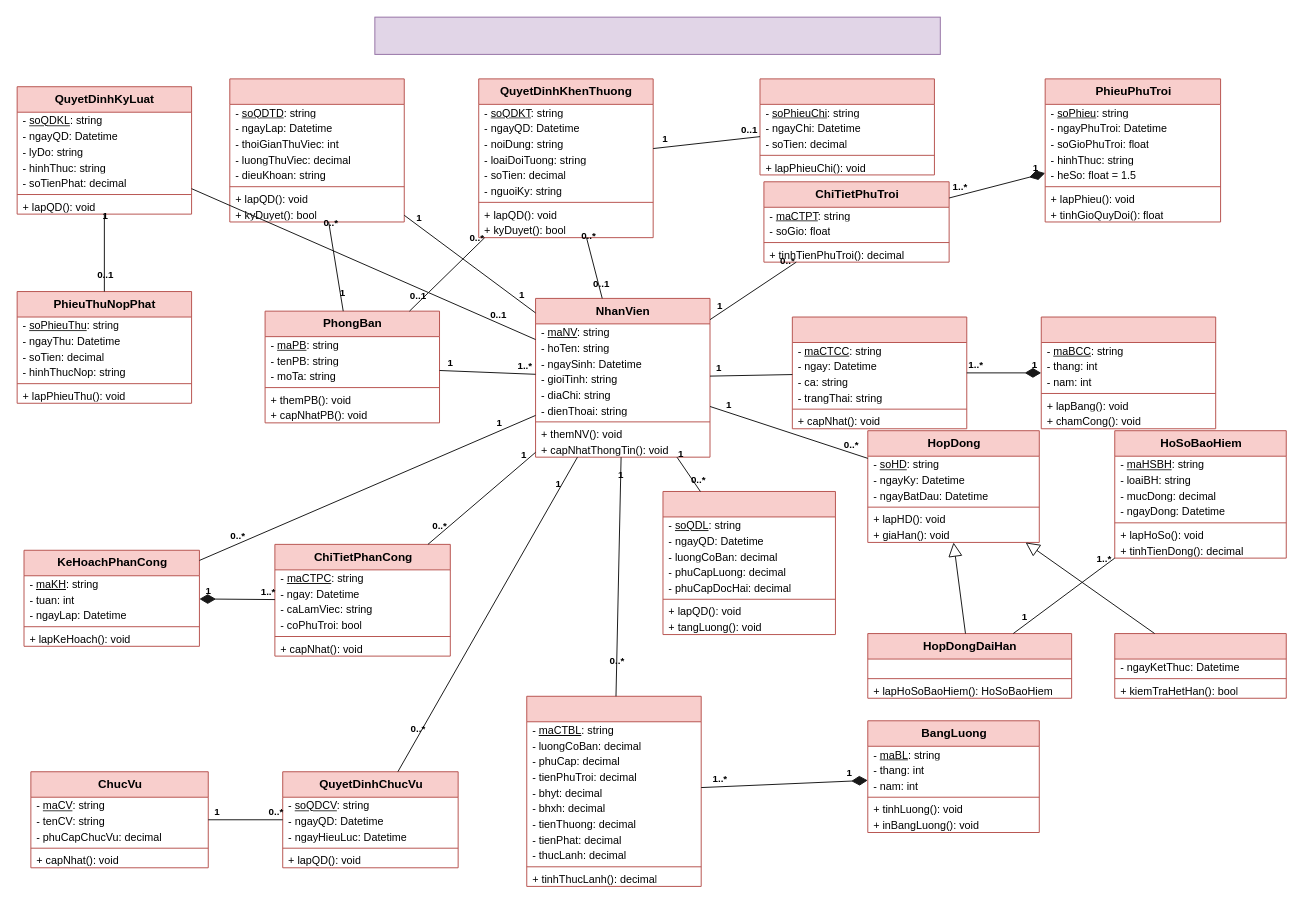
Image size: 1303x904. Some labels were removed from this diagram. Each missing label, with the box of its shape:
BangChamCong: (1040, 316, 1216, 429)
ChiTietBangLuong: (526, 695, 701, 886)
ChiTietChamCong: (791, 316, 967, 429)
HopDongNganHan: (1114, 633, 1286, 698)
PhieuChiKhenThuong: (759, 78, 934, 175)
QuyetDinhLuong: (662, 490, 835, 635)
QuyetDinhTuyenDung: (229, 78, 404, 222)
Sơ đồ Class cho Hệ thống Quản lý Nhân sự: (374, 16, 940, 54)
